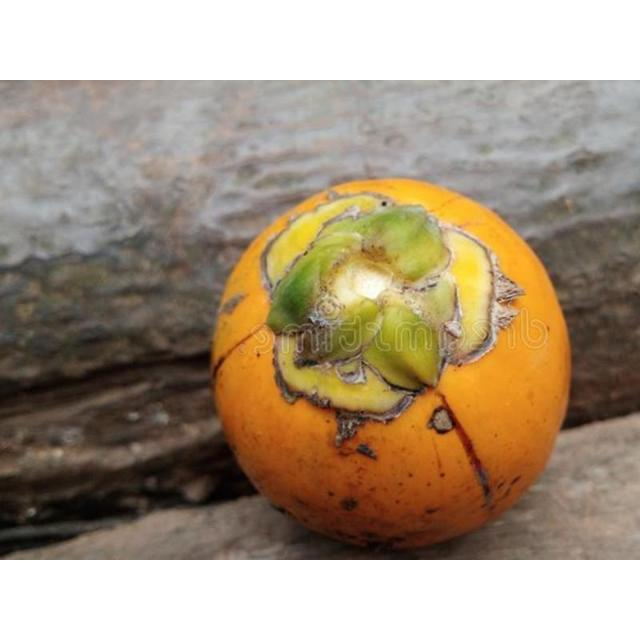good: (213, 180, 570, 552)
